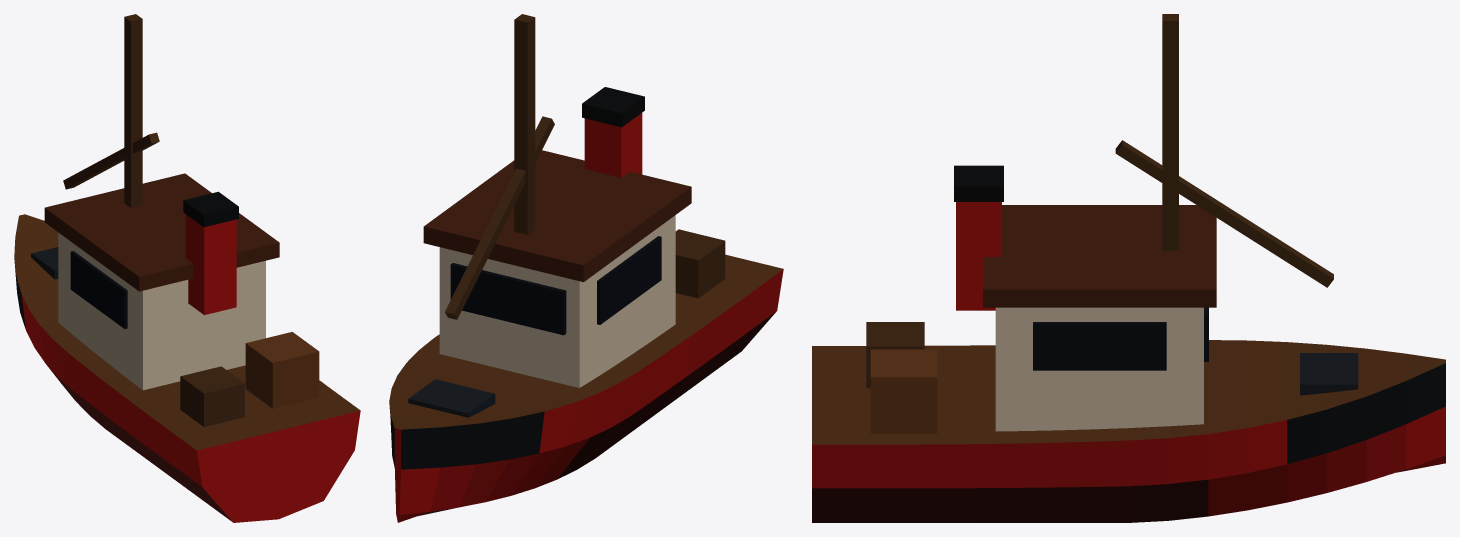
File: trawler.glb
The picture shows the model from 3 angles, left to right: view 1: azimuth 30°, elevation 25°; view 2: azimuth 150°, elevation 25°; view 3: azimuth 270°, elevation 25°; orthographic projection. The views are drawn at different scales.
Parts seen in each view (by area): view 1: trawler; view 2: trawler; view 3: trawler.
Boxes of the visible parts, bbox=[...] form: trawler: bbox=[14, 14, 360, 522]; trawler: bbox=[389, 14, 783, 522]; trawler: bbox=[812, 14, 1445, 522].
Size of the model in its own units: 2.8 by 6.45 by 7.6.
